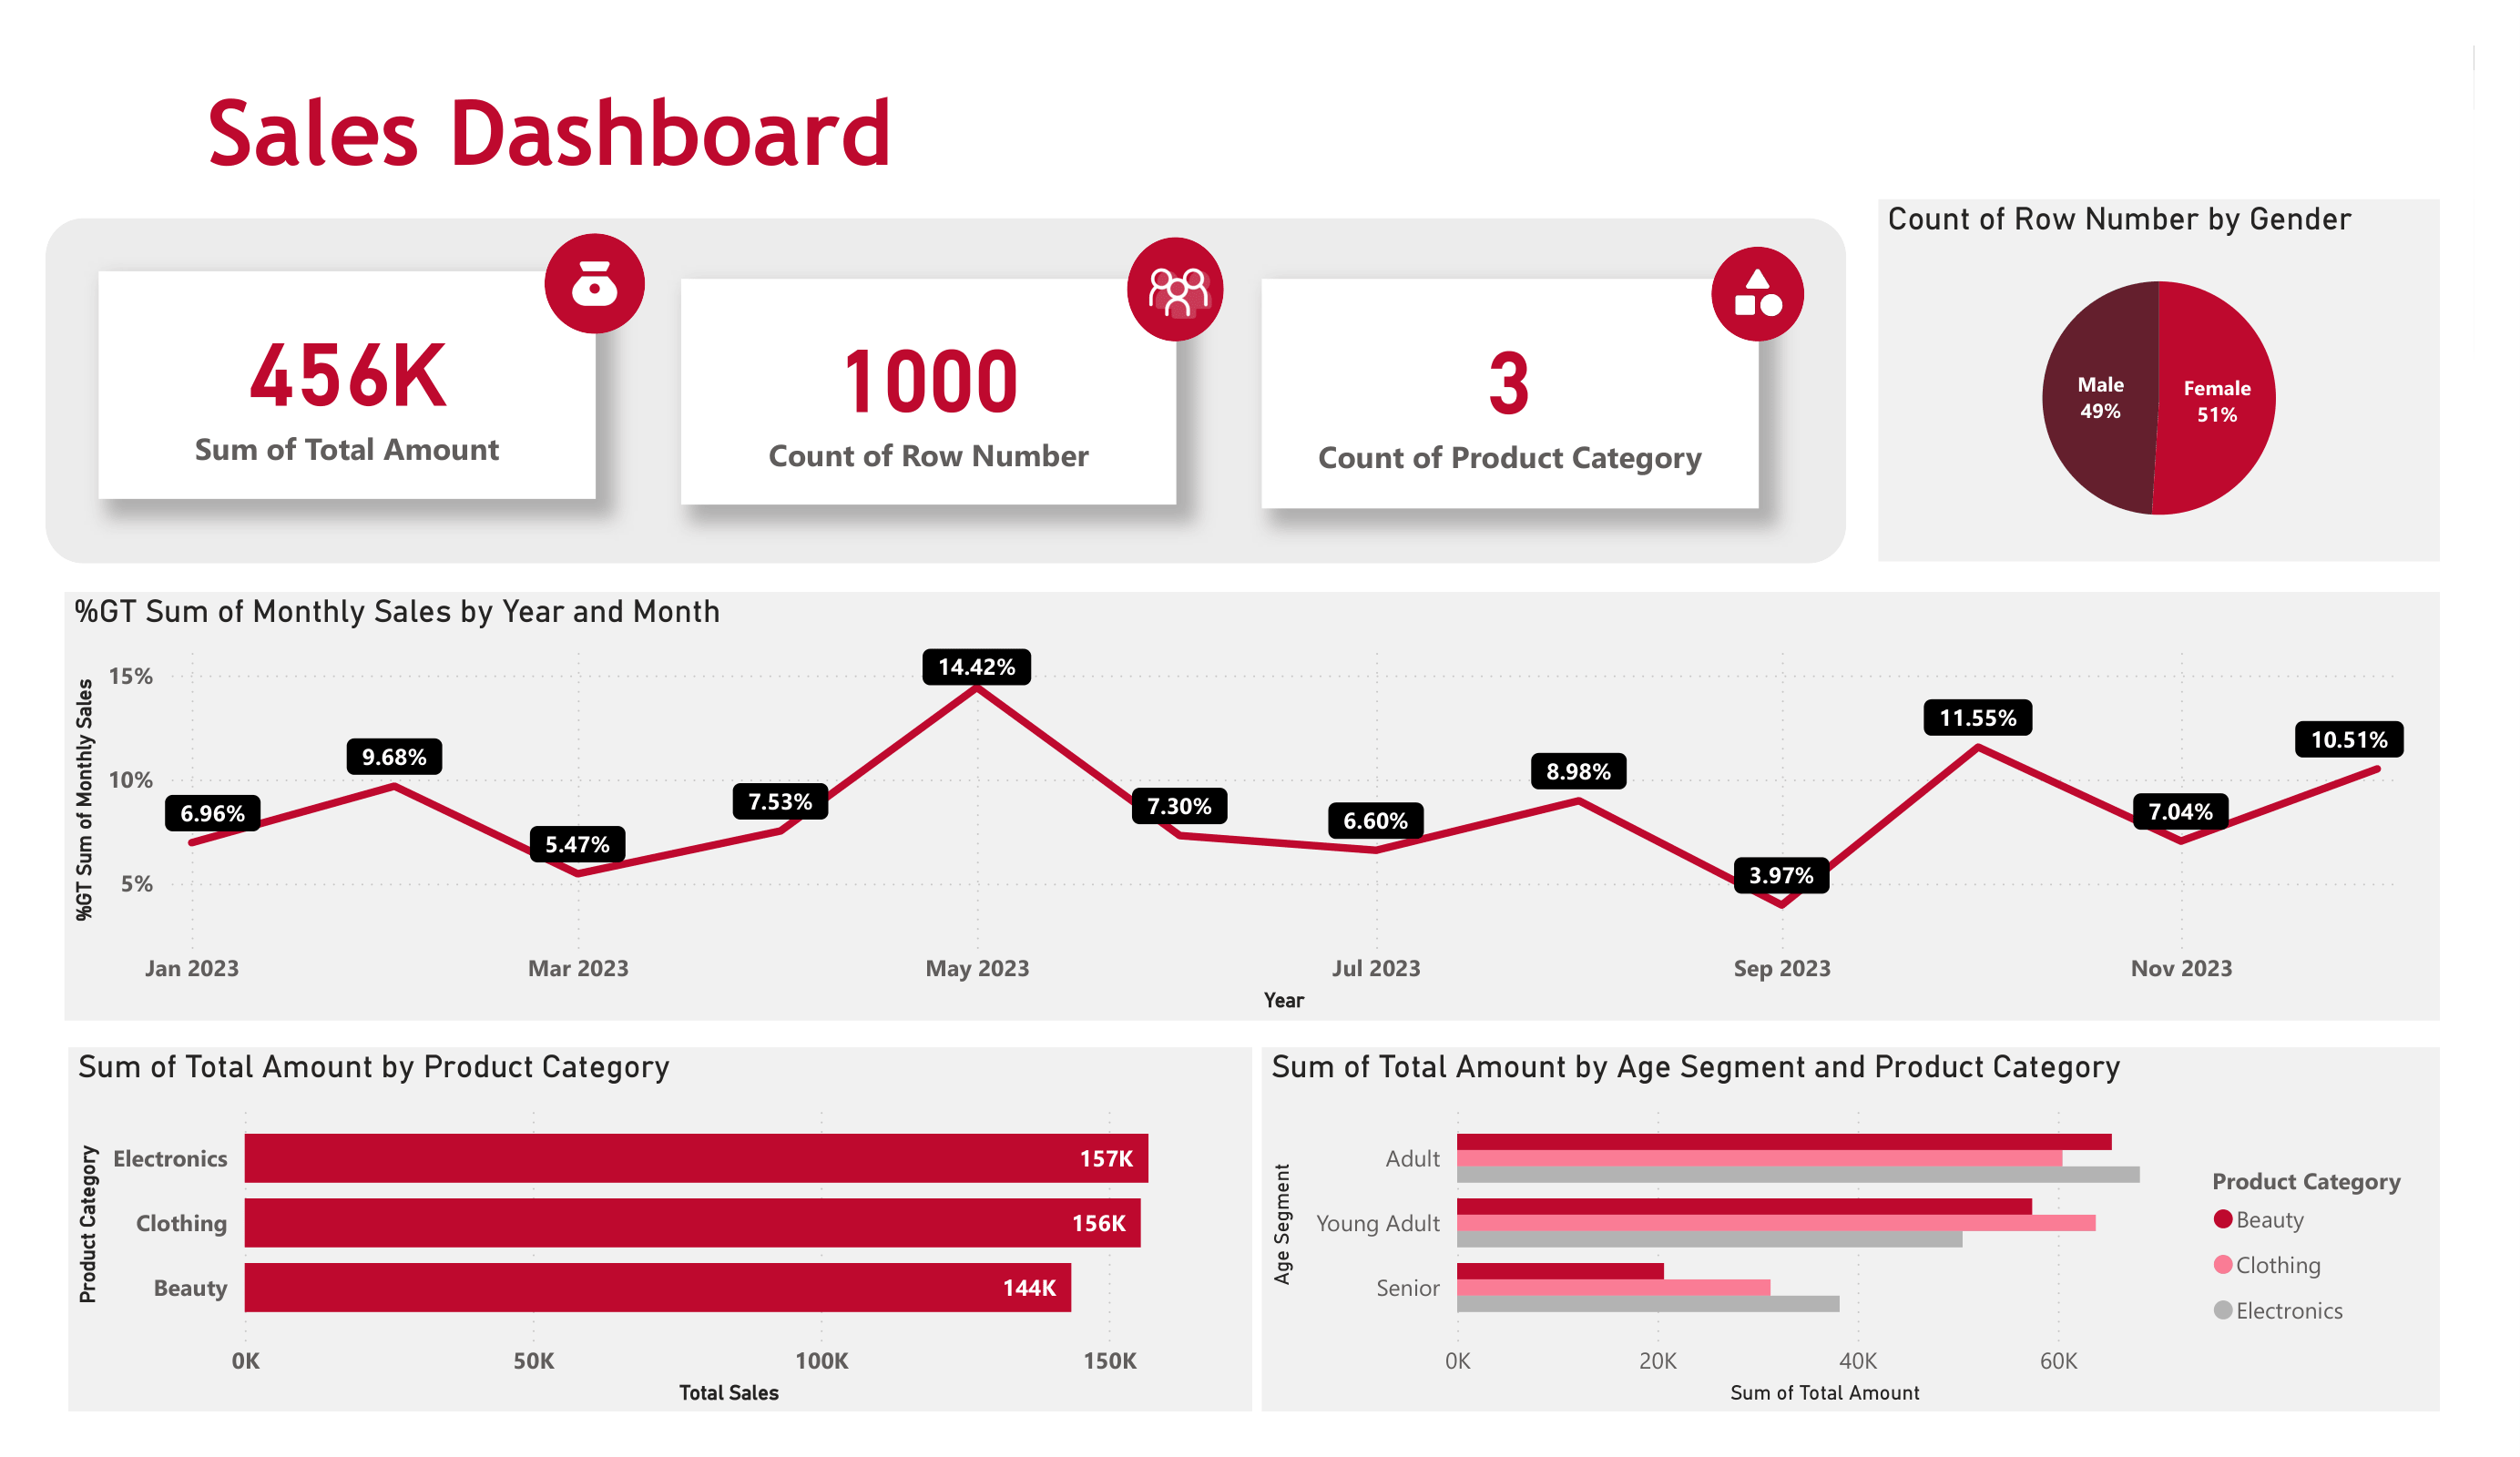

Layout of this report page (visuals, bound fields, positions):
{"tool":"powerbi","page":{"name":"Page 1","canvas":[1280,720],"ordinal":6},"visuals":[{"type":"shape","box":[0,91.1,949.2,182.2],"z":0},{"type":"shape","box":[263.4,99.4,53,53],"z":0,"group":"g3"},{"type":"shape","box":[569.7,101,51,54.7],"z":0,"group":"g2"},{"type":"shape","box":[878.3,106,49,49.7],"z":0,"group":"g1"},{"type":"textbox","box":[79.5,13.3,1200.9,67.9],"z":1000},{"type":"image","box":[856.4,109,92.8,40.6],"z":1000,"group":"g1"},{"type":"card","fields":{"Values":["Sum(final_sales_dataframe.Total Amount)"]},"box":[28.2,119.3,261.7,119.3],"z":2000},{"type":"card","fields":{"Values":["CountNonNull(final_sales_dataframe.Row Number)"]},"box":[334.6,122.6,261.7,119.3],"z":3000},{"type":"card","fields":{"Values":["Count(final_sales_dataframe.Product Category)"]},"box":[641.1,122.6,261.7,120.9],"z":4000},{"type":"group","id":"g1","title":"Group 1","box":[856.4,106,92.8,49.7],"z":5000},{"type":"image","box":[556.6,104.6,79.5,47.4],"z":5003,"group":"g2"},{"type":"image","box":[268.3,105.3,43.1,41.2],"z":5005,"group":"g3"},{"type":"group","id":"g2","title":"Group 2","box":[556.6,101,79.5,54.7],"z":6000},{"type":"group","id":"g3","title":"Group 3","box":[263.4,99.4,53,53],"z":7000},{"type":"lineChart","fields":{"Category":["final_sales_dataframe.Month.Variation.Date Hierarchy.Year","final_sales_dataframe.Month.Variation.Date Hierarchy.Month"],"Y":["Sum(final_sales_dataframe.Monthly Sales)"]},"box":[9.9,288.2,1252.3,225.3],"z":8000},{"type":"pieChart","fields":{"Category":["final_sales_dataframe.Gender"],"Y":["CountNonNull(final_sales_dataframe.Row Number)"]},"box":[965.7,81.2,296.5,190.5],"z":8001},{"type":"barChart","fields":{"Category":["final_sales_dataframe.Product Category"],"Y":["Sum(final_sales_dataframe.Total Amount)"]},"box":[11.6,528.4,624.5,192.2],"z":8002},{"type":"clusteredBarChart","fields":{"Category":["final_sales_dataframe.Age Segment"],"Y":["Sum(final_sales_dataframe.Total Amount)"],"Series":["final_sales_dataframe.Product Category"]},"box":[641.1,528.4,621.2,192.2],"z":8003}]}

Visuals, with their boxes on the page's 1280x720 design canvas (x1, y1, x2, y2). These are canvas units, not pixel positions in the 2520x1457 screenshot, which may show the page scaled, cropped or inside an application window:
shape: [left=0, top=91, right=949, bottom=273]
shape: [left=263, top=99, right=316, bottom=152]
shape: [left=570, top=101, right=621, bottom=156]
shape: [left=878, top=106, right=927, bottom=156]
textbox: [left=80, top=13, right=1280, bottom=81]
image: [left=856, top=109, right=949, bottom=150]
card - Sum(final_sales_dataframe.Total Amount): [left=28, top=119, right=290, bottom=239]
card - CountNonNull(final_sales_dataframe.Row Number): [left=335, top=123, right=596, bottom=242]
card - Count(final_sales_dataframe.Product Category): [left=641, top=123, right=903, bottom=244]
"Group 1" group: [left=856, top=106, right=949, bottom=156]
image: [left=557, top=105, right=636, bottom=152]
image: [left=268, top=105, right=311, bottom=146]
"Group 2" group: [left=557, top=101, right=636, bottom=156]
"Group 3" group: [left=263, top=99, right=316, bottom=152]
lineChart - final_sales_dataframe.Month.Variation.Date Hierarchy.Year x final_sales_dataframe.Month.Variation.Date Hierarchy.Month: [left=10, top=288, right=1262, bottom=514]
pieChart - final_sales_dataframe.Gender x CountNonNull(final_sales_dataframe.Row Number): [left=966, top=81, right=1262, bottom=272]
barChart - final_sales_dataframe.Product Category x Sum(final_sales_dataframe.Total Amount): [left=12, top=528, right=636, bottom=721]
clusteredBarChart - final_sales_dataframe.Age Segment x Sum(final_sales_dataframe.Total Amount): [left=641, top=528, right=1262, bottom=721]
